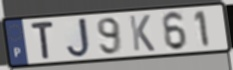1: (192, 10, 212, 48)
6: (160, 10, 189, 52)
9: (96, 17, 124, 56)
J: (65, 17, 92, 60)
K: (127, 14, 157, 53)
T: (29, 20, 56, 61)
